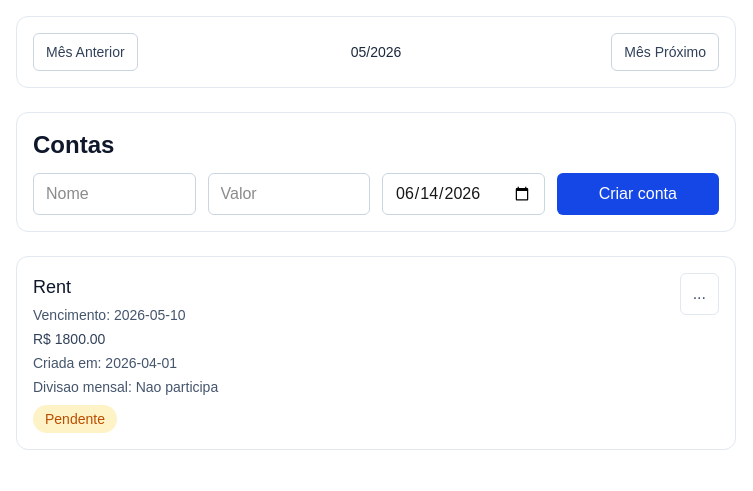
Test case: AccountsList › deletes an account via menu
Step 1. Click the button "..." → (699,294), box [680,273,719,315]
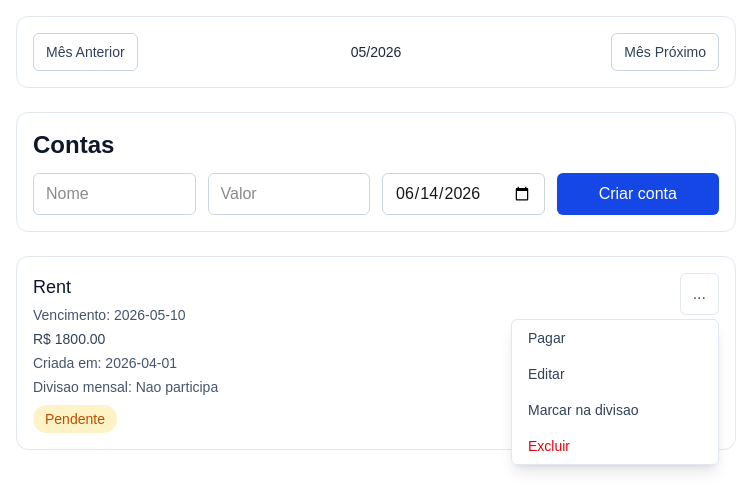
Step 2. Click the button "Excluir" → (615,446), box [512,428,718,464]
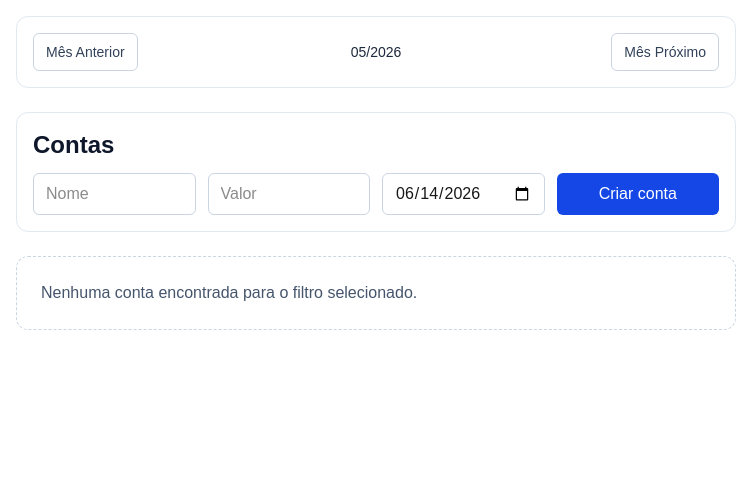
Check: the text "Rent" is gone
